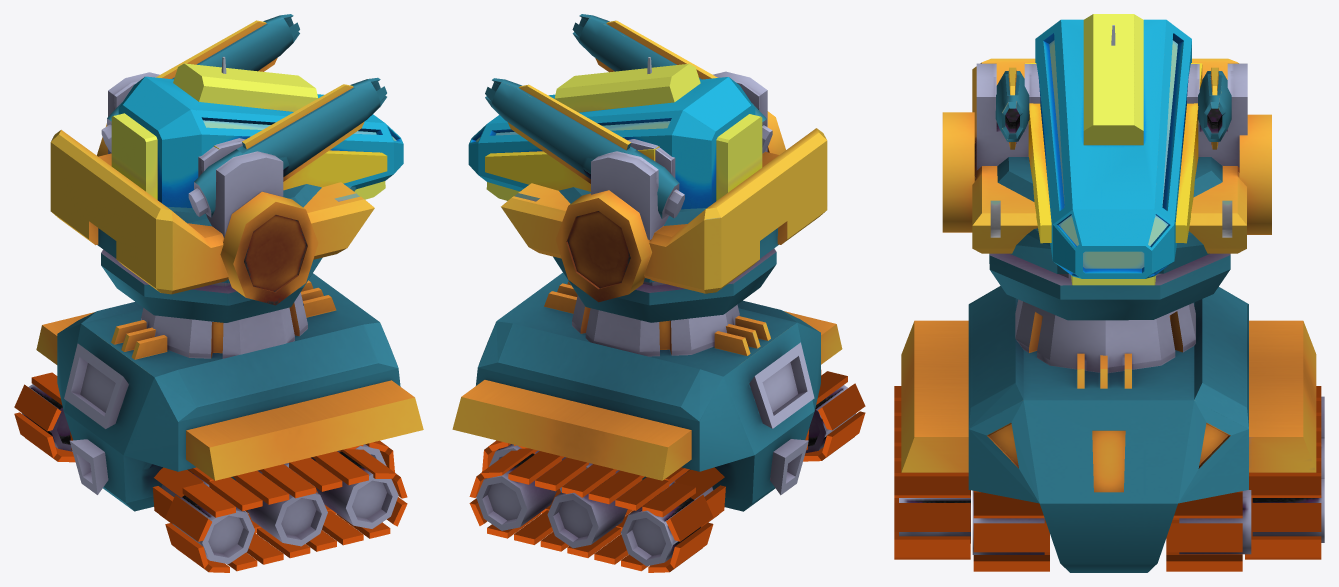
The model's file is Player_Idle_2_Upgrade9.obj.
The picture shows the model from 3 angles, left to right: view 1: azimuth 30°, elevation 25°; view 2: azimuth 150°, elevation 25°; view 3: azimuth 270°, elevation 25°; orthographic projection. The views are drawn at different scales.
Parts seen in each view (by area): view 1: Object008, Box020, Object014, Box018, Box019, Box017; view 2: Object008, Box019, Object014, Box018, Box020, Box016; view 3: Object008, Box020, Box019, Box016, Box017, Object014, Box018, Box009.
Part boxes in pixels (left/top/right/bottom): Object008: left=36, top=63, right=423, bottom=511; Box020: left=165, top=449, right=407, bottom=572; Object014: left=101, top=14, right=386, bottom=217; Box018: left=22, top=384, right=398, bottom=563; Box019: left=14, top=372, right=75, bottom=462; Box017: left=152, top=440, right=394, bottom=533; Object008: left=452, top=63, right=842, bottom=511; Box019: left=469, top=448, right=713, bottom=572; Object014: left=485, top=14, right=772, bottom=218; Box018: left=476, top=385, right=856, bottom=566; Box020: left=803, top=370, right=865, bottom=461; Box016: left=482, top=440, right=725, bottom=531; Object008: left=901, top=14, right=1316, bottom=572; Box020: left=894, top=386, right=970, bottom=559; Box019: left=1245, top=386, right=1321, bottom=559; Box016: left=1166, top=491, right=1242, bottom=571; Box017: left=973, top=491, right=1049, bottom=571; Object014: left=995, top=67, right=1231, bottom=149; Box018: left=899, top=396, right=1324, bottom=543; Box009: left=972, top=490, right=1251, bottom=554.
Bounding box in the file's own units: 65.77 × 86.78 × 68.55.
Materials: 5 (3 with a texture image).
